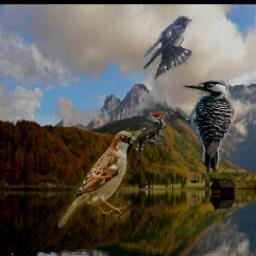Sparrow: (58, 131, 139, 229)
Swallow: (143, 17, 194, 81)
Woodpecker: (165, 81, 237, 174), (133, 111, 171, 159)
